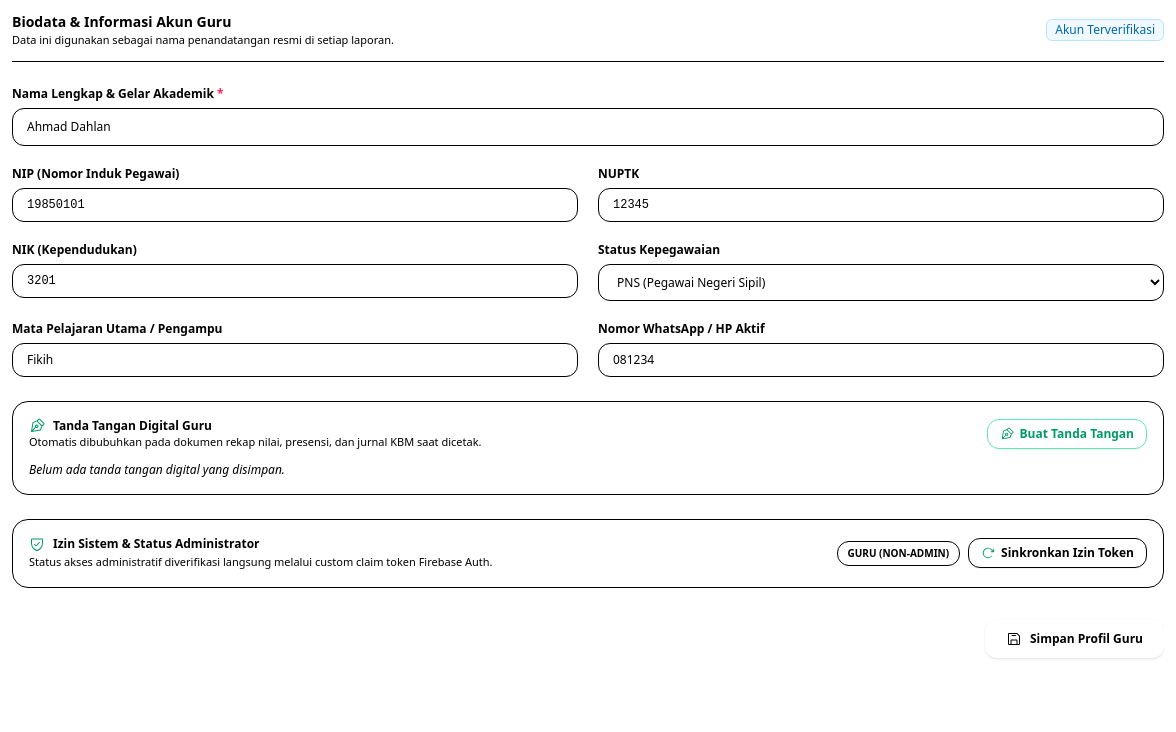
Test: ProfileTab Account Permissions & Claim Recovery Affordance › shows error advice when token claim verification fails due to network error
Click the button "Sinkronkan Izin Token" at (1058, 553), box [968,538,1147,568]
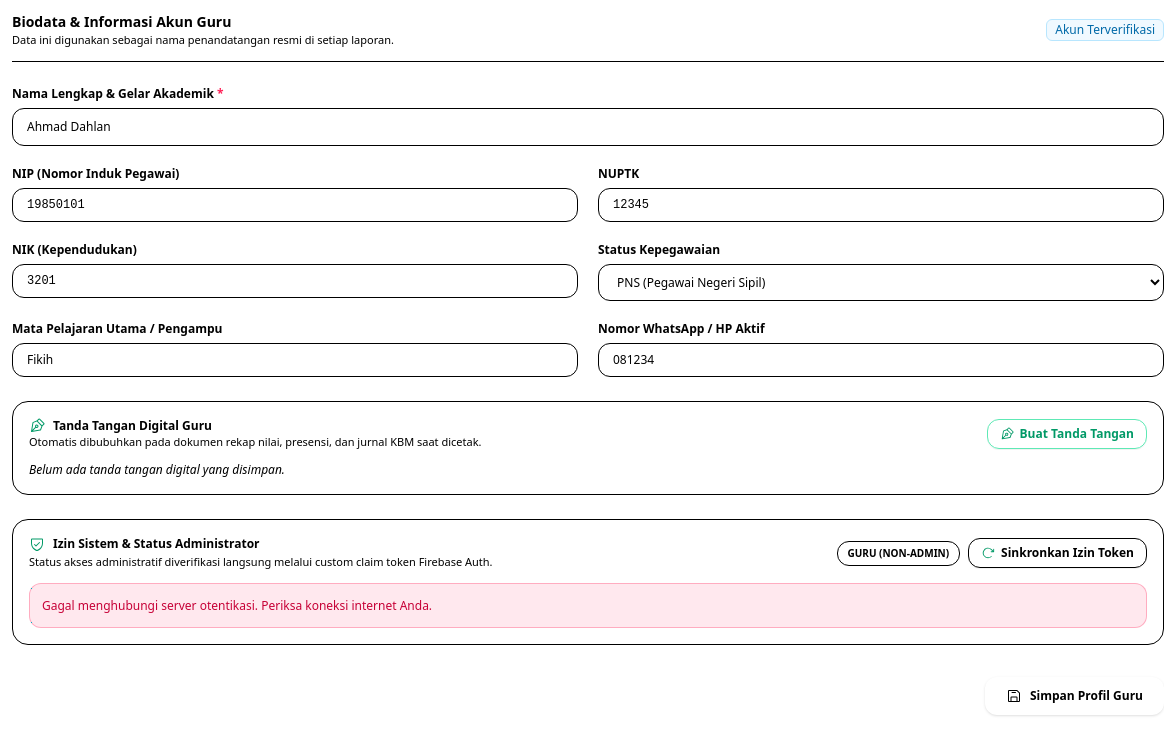
Check: the text "Gagal menghubungi server otentikasi. Periksa koneksi internet Anda." is shown, box [29,582,1147,628]
